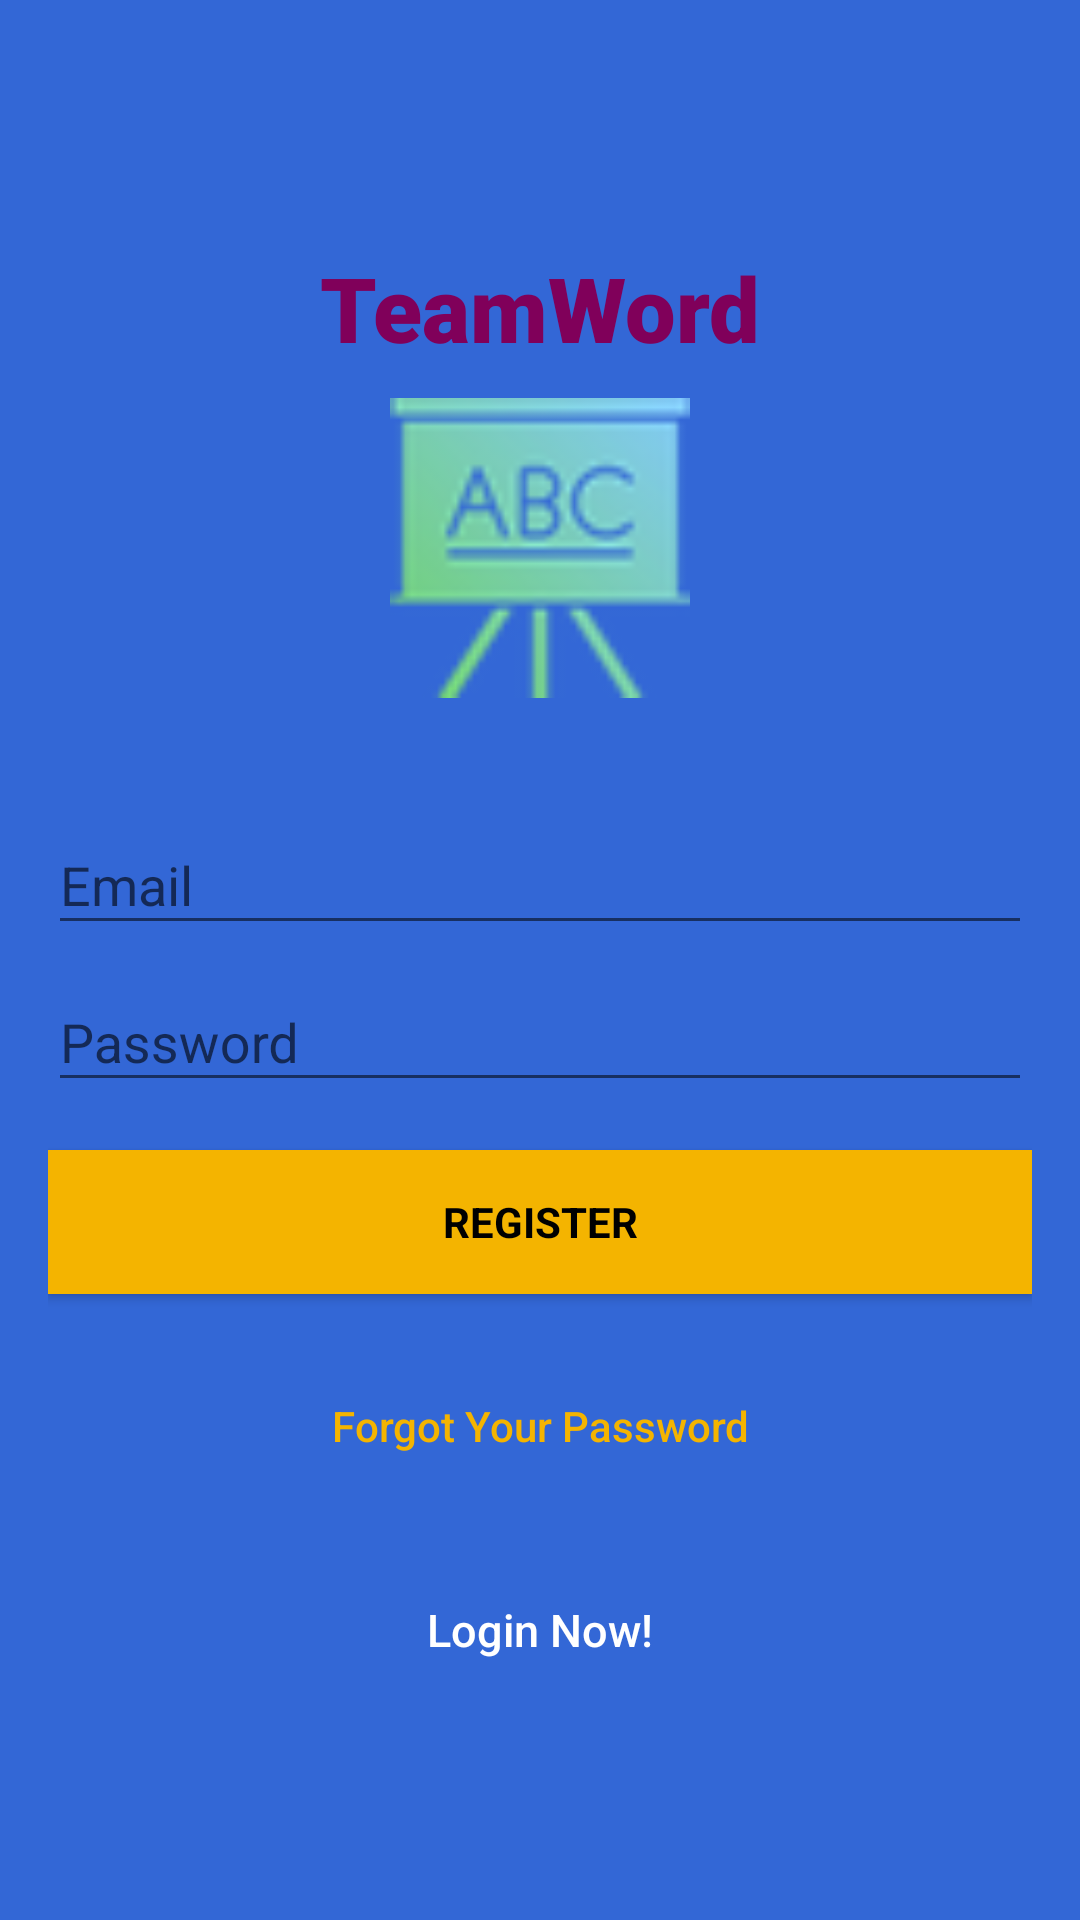

Icon click points for this 1080 x 1920 phone screenshot, format (x=x, y=y):
board: (x=540, y=548)
